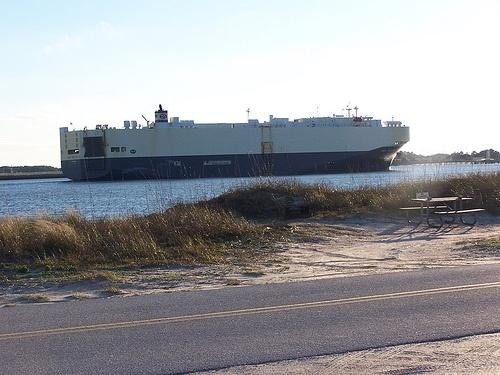boat: (60, 106, 412, 177)
